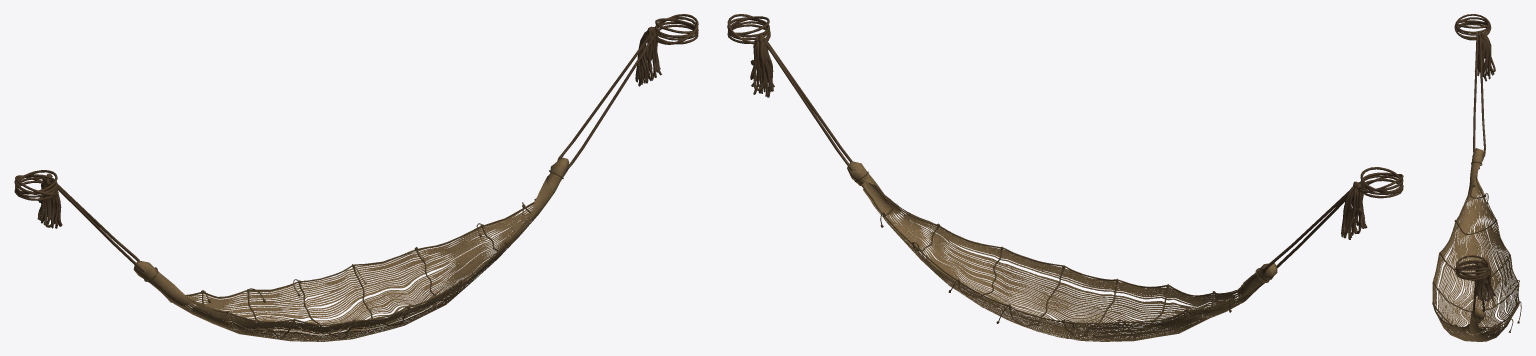
Rendered from SM_Hamaca.glb.
The picture shows the model from 3 angles, left to right: view 1: azimuth 30°, elevation 25°; view 2: azimuth 150°, elevation 25°; view 3: azimuth 270°, elevation 25°; orthographic projection. The views are drawn at different scales.
Parts seen in each view (by area): view 1: SM_Hamaca; view 2: SM_Hamaca; view 3: SM_Hamaca.
Boxes of the visible parts, x1,y1,x2,y2 form: SM_Hamaca: (14, 14, 698, 341); SM_Hamaca: (727, 14, 1403, 341); SM_Hamaca: (1432, 14, 1521, 341).
Bounding box in the file's own units: 3.68 × 1.22 × 0.5427.
Materials: 1 (1 with a texture image).
